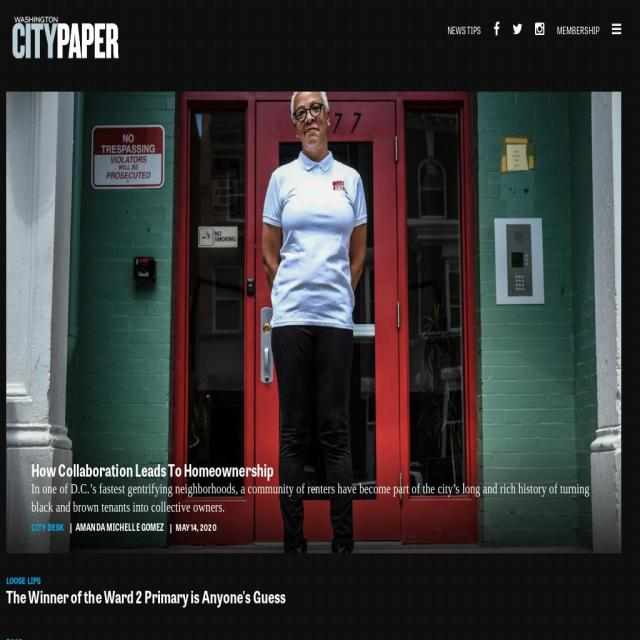button: (6, 92, 622, 553), (6, 586, 622, 606), (31, 459, 596, 480), (12, 17, 120, 58), (70, 516, 164, 536), (550, 21, 606, 34), (440, 21, 488, 34), (6, 572, 41, 586), (31, 519, 64, 533), (6, 634, 24, 640)
heading: (6, 586, 622, 606), (31, 459, 596, 480)
image: (6, 92, 622, 553), (12, 17, 120, 58)
text: (32, 481, 590, 514), (69, 518, 164, 534), (6, 569, 41, 587), (176, 519, 217, 533), (31, 516, 64, 533), (605, 21, 628, 37), (6, 631, 23, 640)
